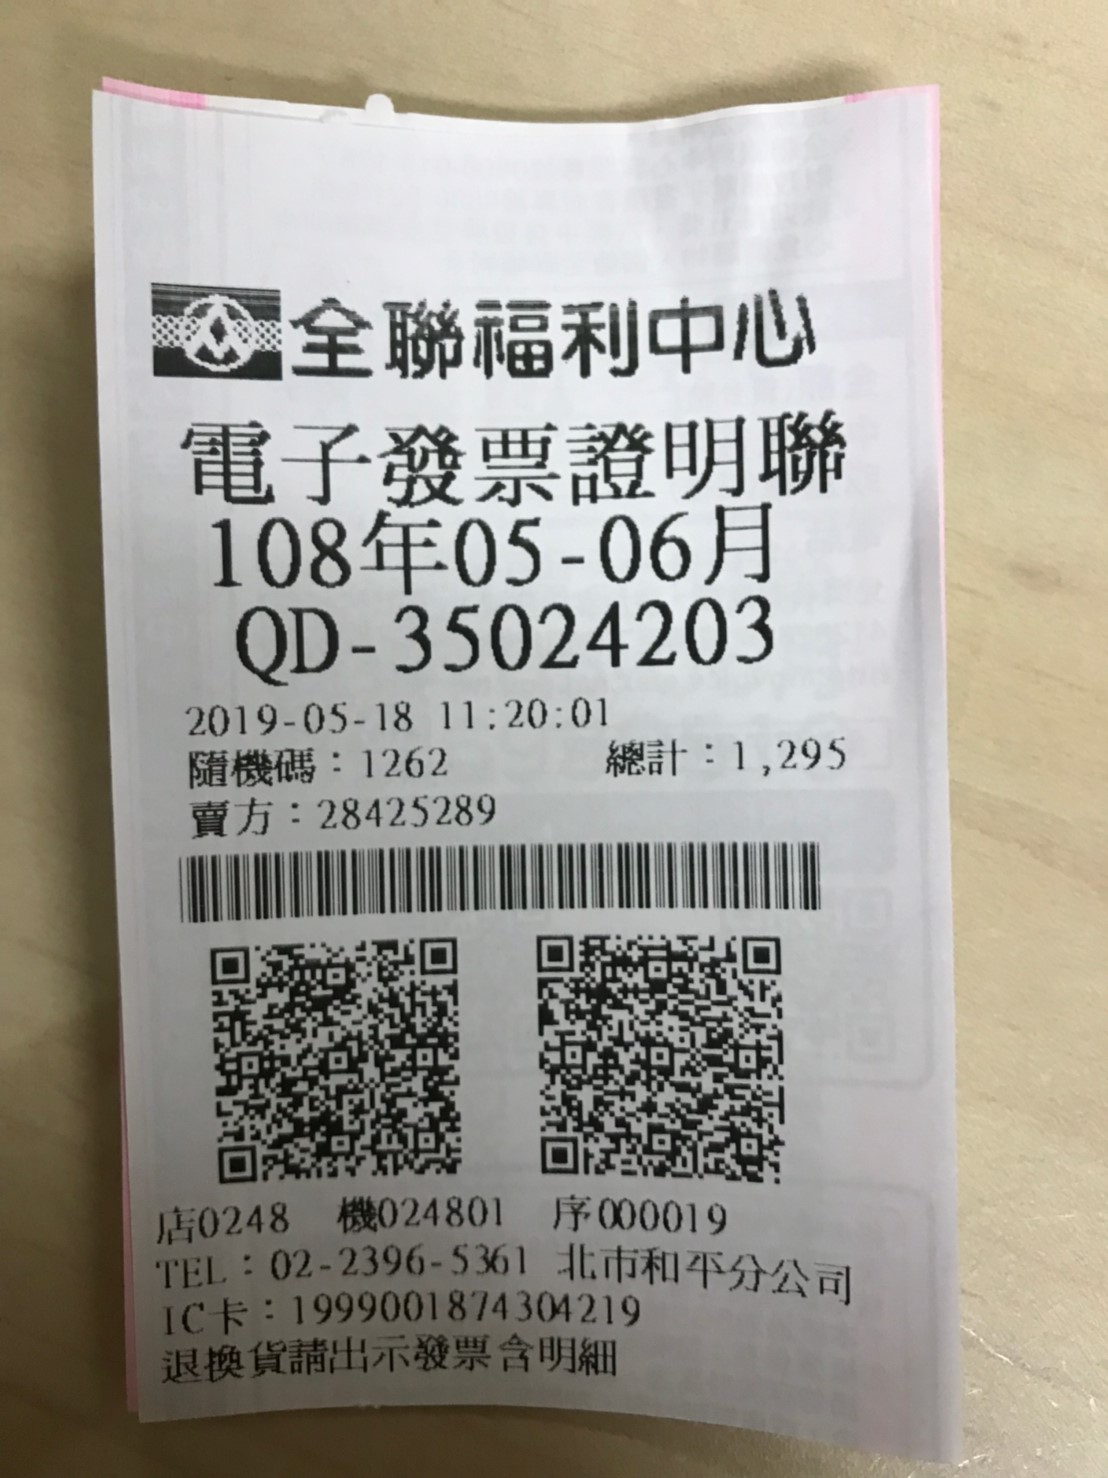Date_New: (207, 498, 777, 597)
Number_New: (388, 597, 777, 673)
